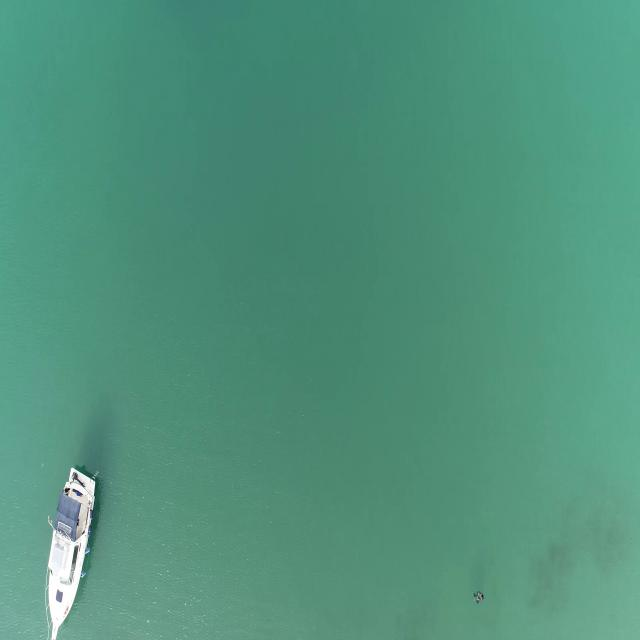boat: (41, 464, 102, 636)
person: (471, 587, 487, 607)
